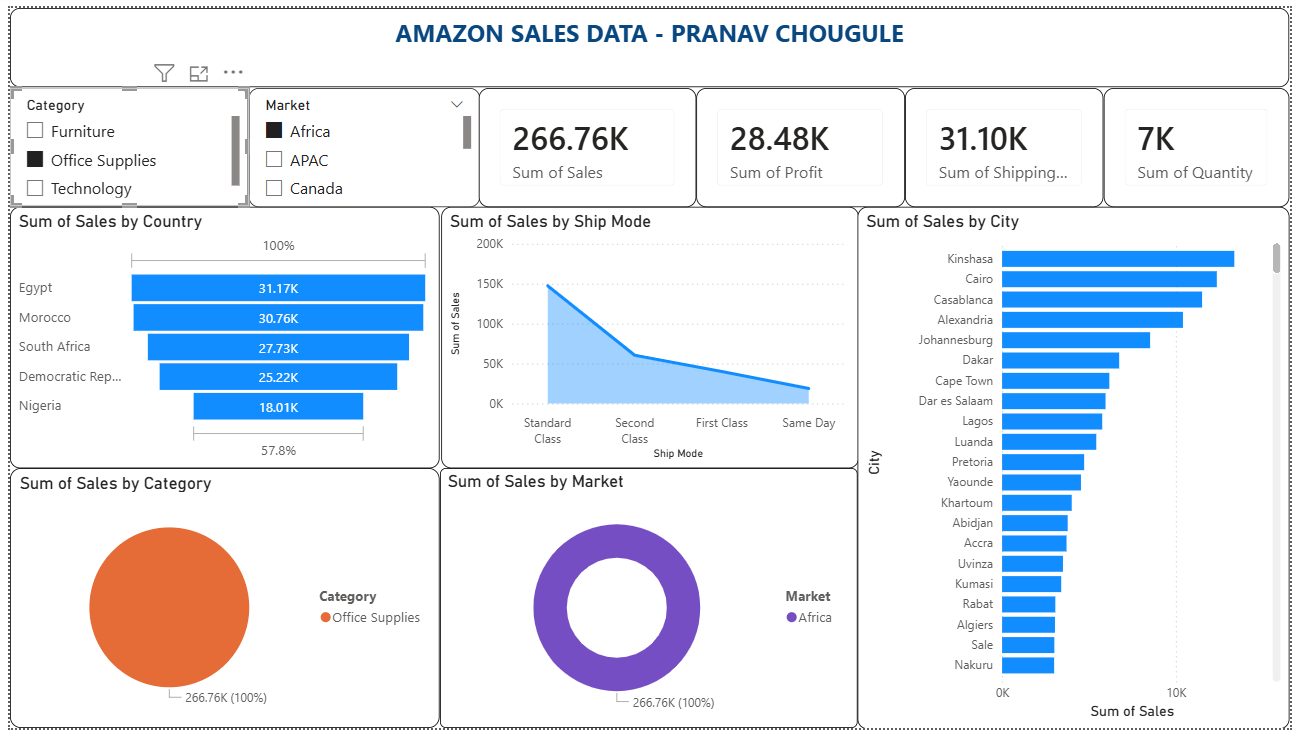

The page's visual inventory and layout, read from the dashboard file:
{"tool":"powerbi","page":{"name":"Page 1","canvas":[1280,720],"ordinal":0},"visuals":[{"type":"pieChart","fields":{"Category":["Orders.Category"],"Y":["Sum(Orders.Sales)"]},"box":[0,460.3,429.4,260.3],"z":0},{"type":"donutChart","fields":{"Y":["Sum(Orders.Sales)"],"Category":["Orders.Market"]},"box":[429.4,460.3,417.6,260.3],"z":1000},{"type":"areaChart","fields":{"Category":["Orders.Ship Mode"],"Y":["Sum(Orders.Sales)"]},"box":[430.9,198.5,417.6,261.8],"z":2000},{"type":"clusteredBarChart","fields":{"Category":["Orders.City"],"Y":["Sum(Orders.Sales)"]},"box":[847.1,198.5,432.4,522.1],"z":3000},{"type":"funnel","fields":{"Category":["Orders.Country"],"Y":["Sum(Orders.Sales)"]},"box":[0,198.5,429.4,261.8],"z":4000},{"type":"textbox","box":[0,0,1279.4,79.4],"z":5000},{"type":"slicer","fields":{"Values":["Orders.Category"]},"box":[0,79.4,238.2,119.1],"z":6000},{"type":"slicer","fields":{"Values":["Orders.Market"]},"box":[238.2,79.4,230.9,119.1],"z":7000},{"type":"cardVisual","fields":{"Data":["Sum(Orders.Sales)"]},"box":[469.1,79.4,217.6,119.1],"z":8000},{"type":"cardVisual","fields":{"Data":["Sum(Orders.Profit)"]},"box":[686.8,79.4,208.8,119.1],"z":9000},{"type":"cardVisual","fields":{"Data":["Sum(Orders.Shipping Cost)"]},"box":[895.6,79.4,198.5,119.1],"z":10000},{"type":"cardVisual","fields":{"Data":["Sum(Orders.Quantity)"]},"box":[1094.1,79.4,185.3,119.1],"z":11000}]}

Visuals, with their boxes in screenshot pixels (x1, y1, x2, y2), scaled from the page's 1280x720 canvas onto the 1296x733 screenshot:
pieChart - Orders.Category x Sum(Orders.Sales): pyautogui.locateOnScreen(0, 469, 435, 732)
donutChart - Sum(Orders.Sales) x Orders.Market: pyautogui.locateOnScreen(435, 469, 858, 732)
areaChart - Orders.Ship Mode x Sum(Orders.Sales): pyautogui.locateOnScreen(436, 202, 859, 469)
clusteredBarChart - Orders.City x Sum(Orders.Sales): pyautogui.locateOnScreen(858, 202, 1295, 732)
funnel - Orders.Country x Sum(Orders.Sales): pyautogui.locateOnScreen(0, 202, 435, 469)
textbox: pyautogui.locateOnScreen(0, 0, 1295, 81)
slicer - Orders.Category: pyautogui.locateOnScreen(0, 81, 241, 202)
slicer - Orders.Market: pyautogui.locateOnScreen(241, 81, 475, 202)
cardVisual - Sum(Orders.Sales): pyautogui.locateOnScreen(475, 81, 695, 202)
cardVisual - Sum(Orders.Profit): pyautogui.locateOnScreen(695, 81, 907, 202)
cardVisual - Sum(Orders.Shipping Cost): pyautogui.locateOnScreen(907, 81, 1108, 202)
cardVisual - Sum(Orders.Quantity): pyautogui.locateOnScreen(1108, 81, 1295, 202)
